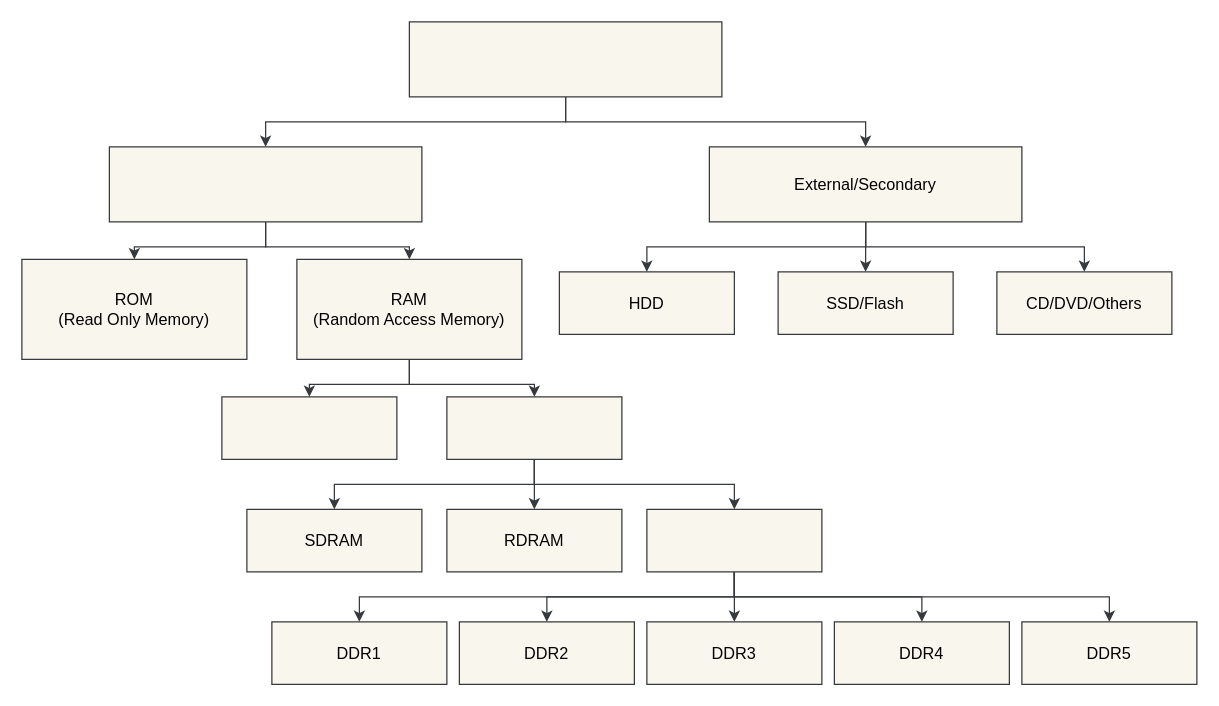
This 1219x706 diagram has some shape labels left out. Here are the shapes that lost their labels. From the top down, the centre of each, then its label:
(565,59): Computer Memory
(265,184): Internal/Main
(309,427): SRAM
(534,427): DRAM
(734,540): DDR SDRAM
